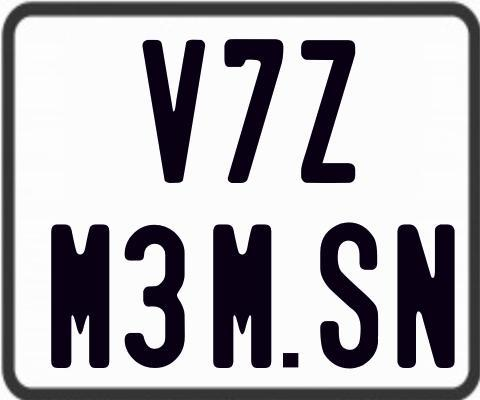3: (122, 225, 183, 373)
7: (223, 39, 285, 187)
M: (210, 221, 273, 365), (48, 221, 107, 371)
N: (397, 223, 455, 370)
S: (320, 220, 380, 368)
V: (141, 40, 207, 183)
Z: (300, 37, 358, 181)
